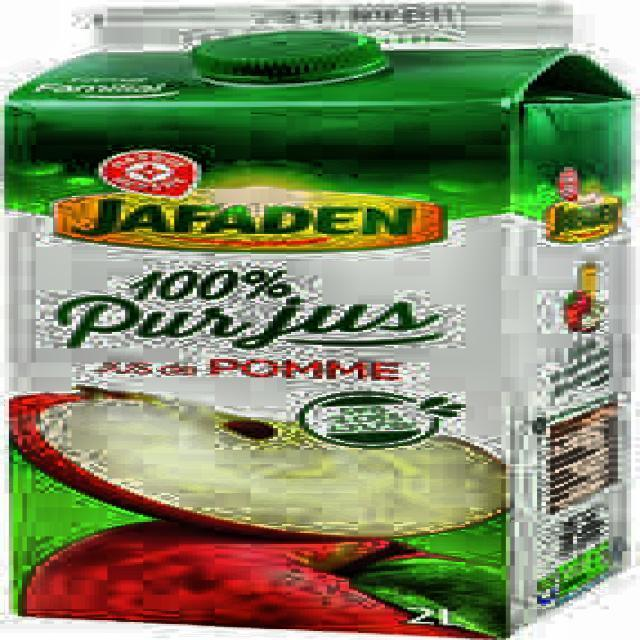cardboard: (0, 18, 636, 638)
